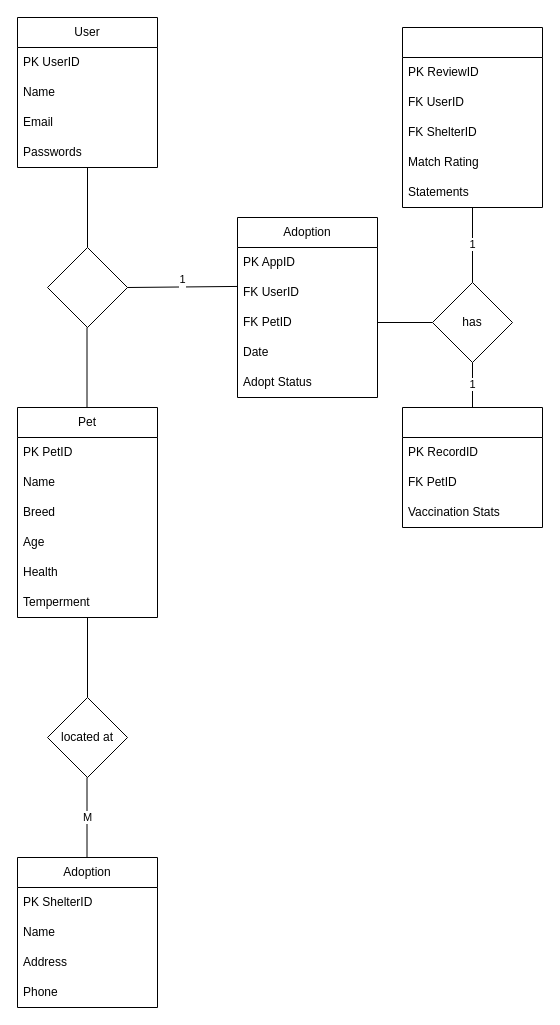
This 560x1025 diagram has some shape labels left out. Each missing label, with the box of its shape:
adopt: (46, 246, 128, 328)
Medical Records: (402, 406, 542, 528)
Shelter Review: (402, 26, 542, 208)
